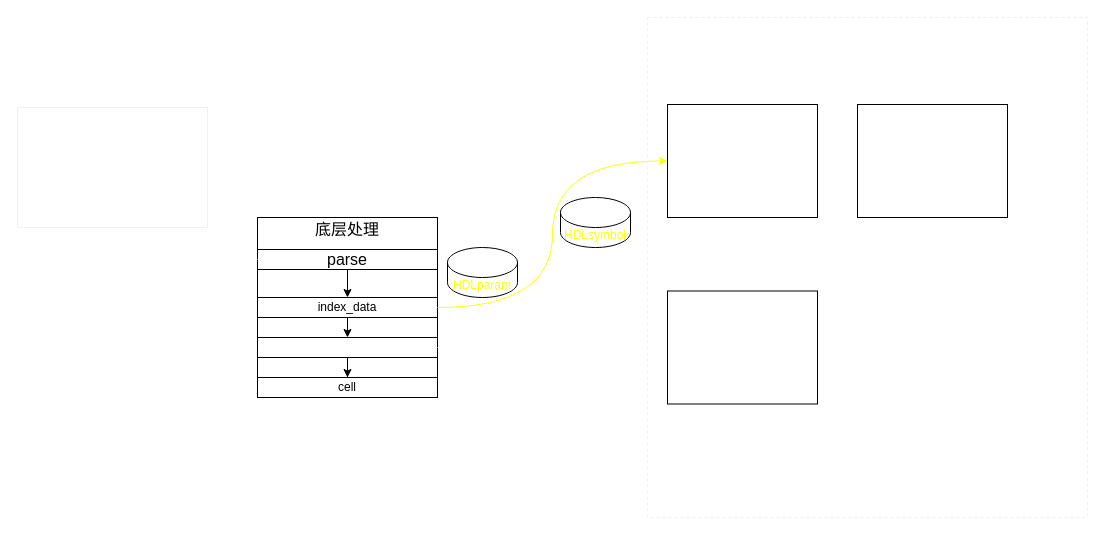
The diagram is 1105 pixels wide and 535 high, and some of its shapes have lost their labels. The centre of each missing label's shape, as x and y in pixels:
"AST" goes at point (347, 347).
"Parse HDL语言的解析" goes at point (112, 167).
